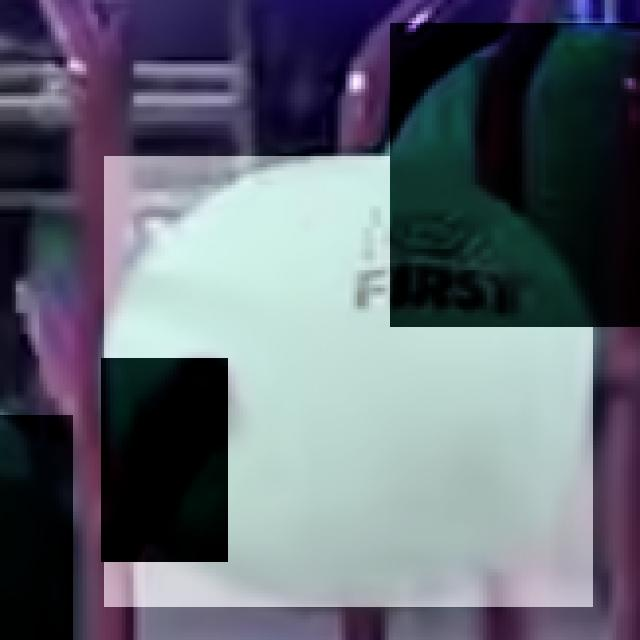Algae: (104, 156, 593, 607), (390, 23, 640, 327), (0, 415, 73, 640)
Reef: (101, 358, 228, 562)
